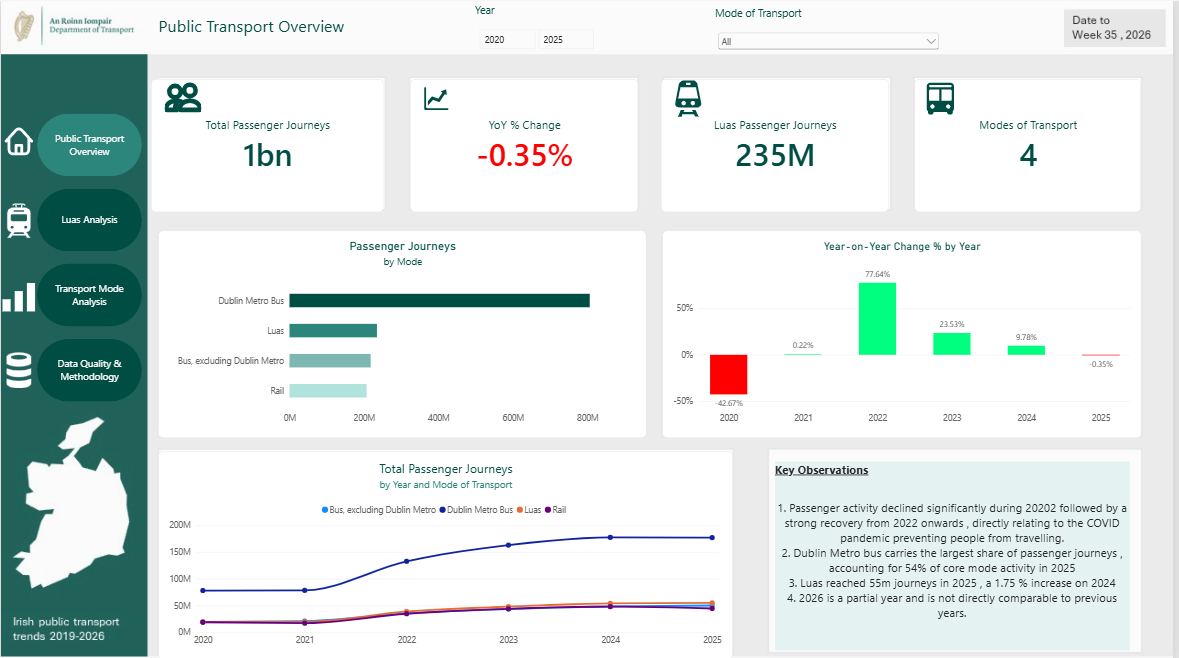

What the dashboard file says about the page in this screenshot:
{"tool":"powerbi","page":{"name":"Public Transport Overview","canvas":[1920,1080],"ordinal":0},"visuals":[{"type":"textbox","box":[256.9,23.2,336.2,50.6],"z":0},{"type":"clusteredBarChart","fields":{"Category":["Public_Transport_Combined.Mode of Transport"],"Y":["Sum(Public_Transport_Combined.Passenger Journeys)"]},"box":[256.9,377.2,799.4,340.3],"z":1000},{"type":"columnChart","fields":{"Category":["Public_Transport_Combined.Year"],"Y":["Public_Transport_Combined.YoY %"]},"box":[1083.7,377.2,784.4,340.3],"z":2000},{"type":"lineChart","fields":{"Category":["Public_Transport_Combined.Year"],"Series":["Public_Transport_Combined.Mode of Transport"],"Y":["Public_Transport_Combined.Total Passenger Journeys"]},"box":[257.3,738.1,940.7,342.5],"z":3000},{"type":"slicer","title":"Year","fields":{"Values":["Public_Transport_Combined.Year"]},"box":[777.6,2.7,278.8,97],"z":4000},{"type":"slicer","title":"Mode of Transport","fields":{"Values":["Public_Transport_Combined.Mode of Transport"]},"box":[1171.1,6.8,371.7,75.2],"z":5000},{"type":"pageNavigator","box":[58.5,183.5,172.9,474.8],"z":6000},{"type":"image","box":[0,202.2,58.5,55.9],"z":7000},{"type":"image","box":[0,332.5,58.5,55.9],"z":8000},{"type":"image","box":[0,575.9,58.5,59.9],"z":9000},{"type":"image","box":[1.3,454.9,53.2,61.2],"z":10000},{"type":"cardVisual","fields":{"Data":["Sum(Public_Transport_Combined.Passenger Journeys)"]},"box":[246.3,127.6,381.3,218.1],"z":11000},{"type":"cardVisual","fields":{"Data":["Sum(Public_Transport_Combined.Passenger Journeys)"]},"box":[1082.7,127.7,373.7,218.1],"z":12000},{"type":"cardVisual","fields":{"Data":["Count(Public_Transport_Combined.Mode of Transport)"]},"box":[1496.3,127.7,371.1,218.1],"z":13000},{"type":"cardVisual","fields":{"Data":["Public_Transport_Combined.YoY % KPI"]},"box":[671,128.5,373.1,218.6],"z":14000},{"type":"image","box":[256.7,127.7,85.1,59.9],"z":15000},{"type":"image","box":[1084.6,129.1,84.6,59.4],"z":16000},{"type":"image","box":[1497.1,130.6,84.6,59.4],"z":17000},{"type":"image","box":[670.7,129.1,84.6,59.4],"z":18000},{"type":"textbox","box":[1268.8,754.9,581,309.6],"z":19000}]}

Visuals, with their boxes in screenshot pixels (x1, y1, x2, y2), scaled from the page's 1920x1080 canvas onto the 1179x658 screenshot:
textbox: (x1=158, y1=14, x2=364, y2=45)
clusteredBarChart - Public_Transport_Combined.Mode of Transport x Sum(Public_Transport_Combined.Passenger Journeys): (x1=158, y1=230, x2=649, y2=437)
columnChart - Public_Transport_Combined.Year x Public_Transport_Combined.YoY %: (x1=665, y1=230, x2=1147, y2=437)
lineChart - Public_Transport_Combined.Year x Public_Transport_Combined.Mode of Transport: (x1=158, y1=450, x2=736, y2=657)
"Year" slicer: (x1=477, y1=2, x2=649, y2=61)
"Mode of Transport" slicer: (x1=719, y1=4, x2=947, y2=50)
pageNavigator: (x1=36, y1=112, x2=142, y2=401)
image: (x1=0, y1=123, x2=36, y2=157)
image: (x1=0, y1=203, x2=36, y2=237)
image: (x1=0, y1=351, x2=36, y2=387)
image: (x1=1, y1=277, x2=33, y2=314)
cardVisual - Sum(Public_Transport_Combined.Passenger Journeys): (x1=151, y1=78, x2=385, y2=211)
cardVisual - Sum(Public_Transport_Combined.Passenger Journeys): (x1=665, y1=78, x2=894, y2=211)
cardVisual - Count(Public_Transport_Combined.Mode of Transport): (x1=919, y1=78, x2=1147, y2=211)
cardVisual - Public_Transport_Combined.YoY % KPI: (x1=412, y1=78, x2=641, y2=211)
image: (x1=158, y1=78, x2=210, y2=114)
image: (x1=666, y1=79, x2=718, y2=115)
image: (x1=919, y1=80, x2=971, y2=116)
image: (x1=412, y1=79, x2=464, y2=115)
textbox: (x1=779, y1=460, x2=1136, y2=649)
